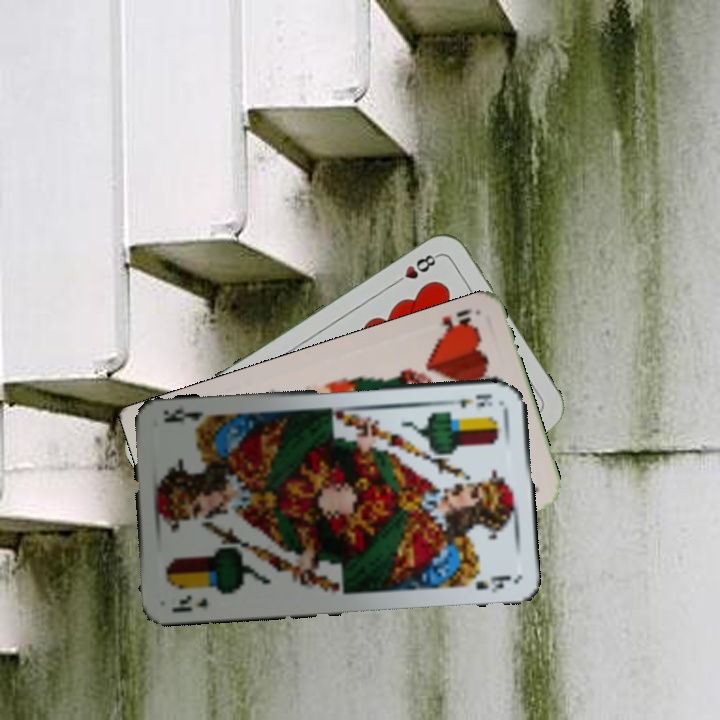EK: (443, 389, 495, 411), (167, 591, 210, 615)
H8: (389, 250, 442, 288)
HO: (438, 304, 480, 339)
